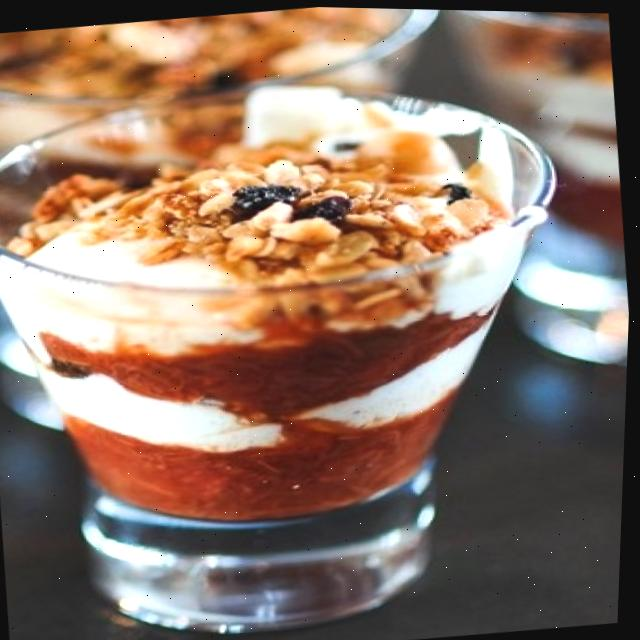蛋糕甜品: (0, 0, 635, 620)
